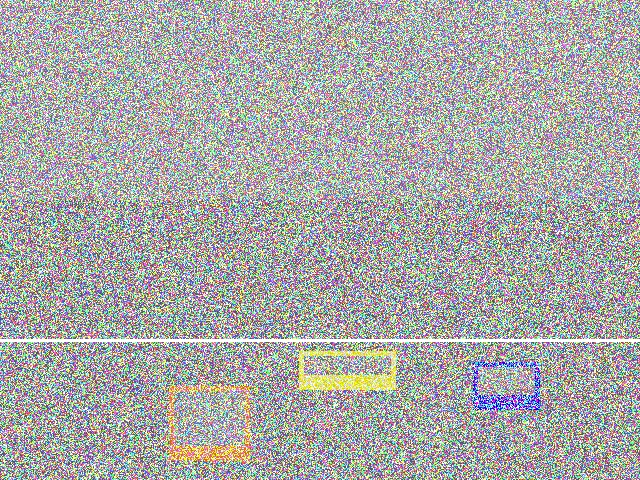car: (398, 385, 528, 462)
motorcycle: (340, 272, 439, 408)
